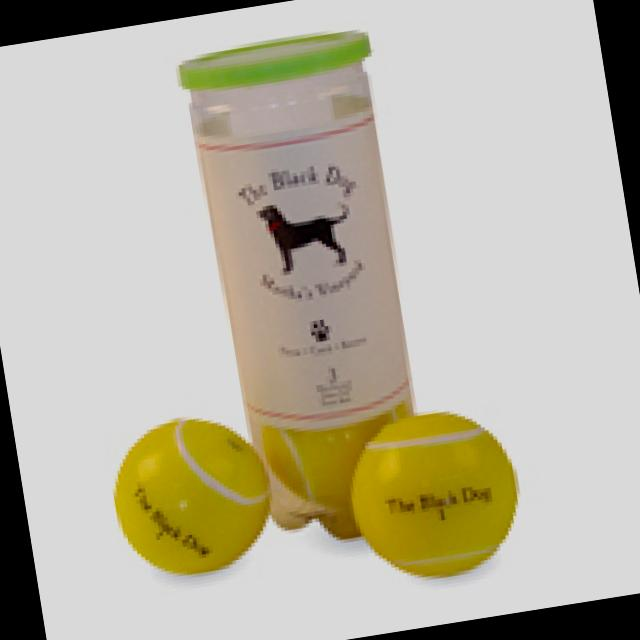Tennis Ball: (348, 411, 521, 582), (112, 418, 272, 580), (262, 407, 407, 511)
